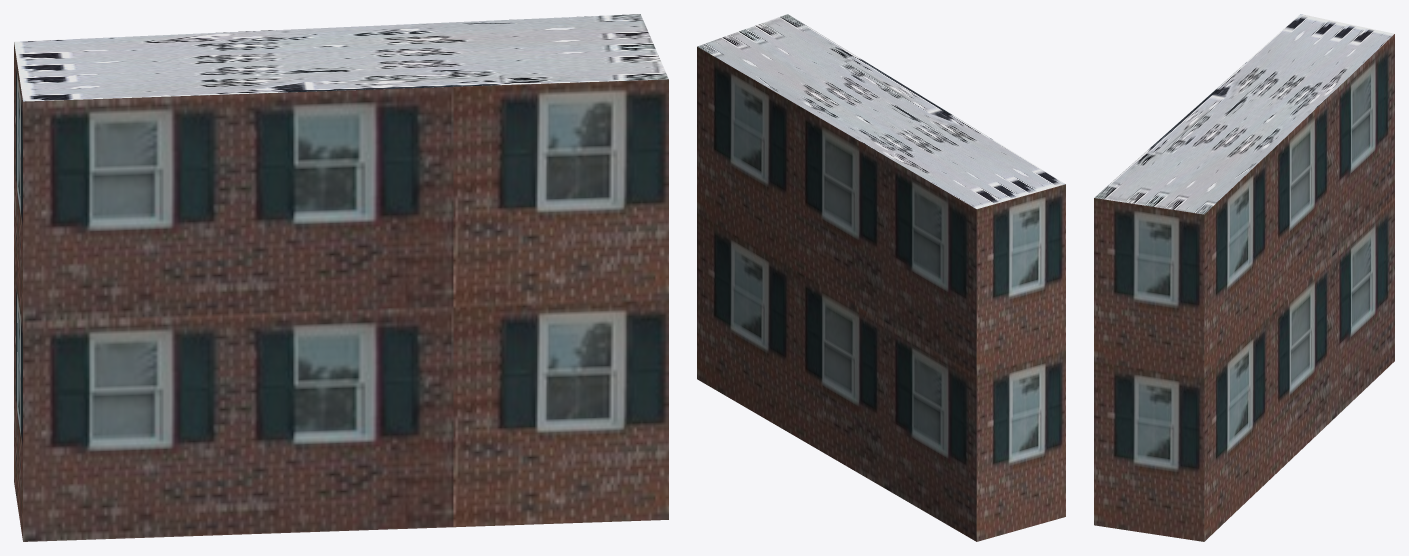
The model's file is ResTex__5290.fbx.
3 views of the same model, side by side, from view 1: azimuth 30°, elevation 25°; view 2: azimuth 150°, elevation 25°; view 3: azimuth 270°, elevation 25° (orthographic). The views are drawn at different scales.
Visible parts, largest first — view 1: CityEngineMaterial_14_m, CityEngineMaterial_m; view 2: CityEngineMaterial_14_m, CityEngineMaterial_m; view 3: CityEngineMaterial_14_m, CityEngineMaterial_m.
Boxes of the visible parts, bbox=[...] form: CityEngineMaterial_14_m: bbox=[14, 42, 668, 541]; CityEngineMaterial_m: bbox=[14, 14, 668, 101]; CityEngineMaterial_14_m: bbox=[697, 46, 1065, 541]; CityEngineMaterial_m: bbox=[697, 14, 1065, 208]; CityEngineMaterial_14_m: bbox=[1094, 34, 1394, 541]; CityEngineMaterial_m: bbox=[1094, 14, 1394, 214].
Size of the model in its own units: 7.88 by 6 by 5.
Materials: 2 (2 with a texture image).
